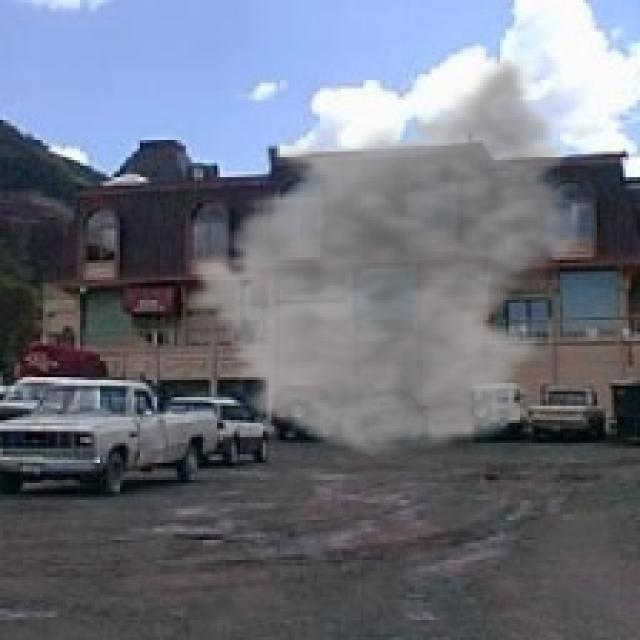Smoke: (177, 54, 597, 460)
